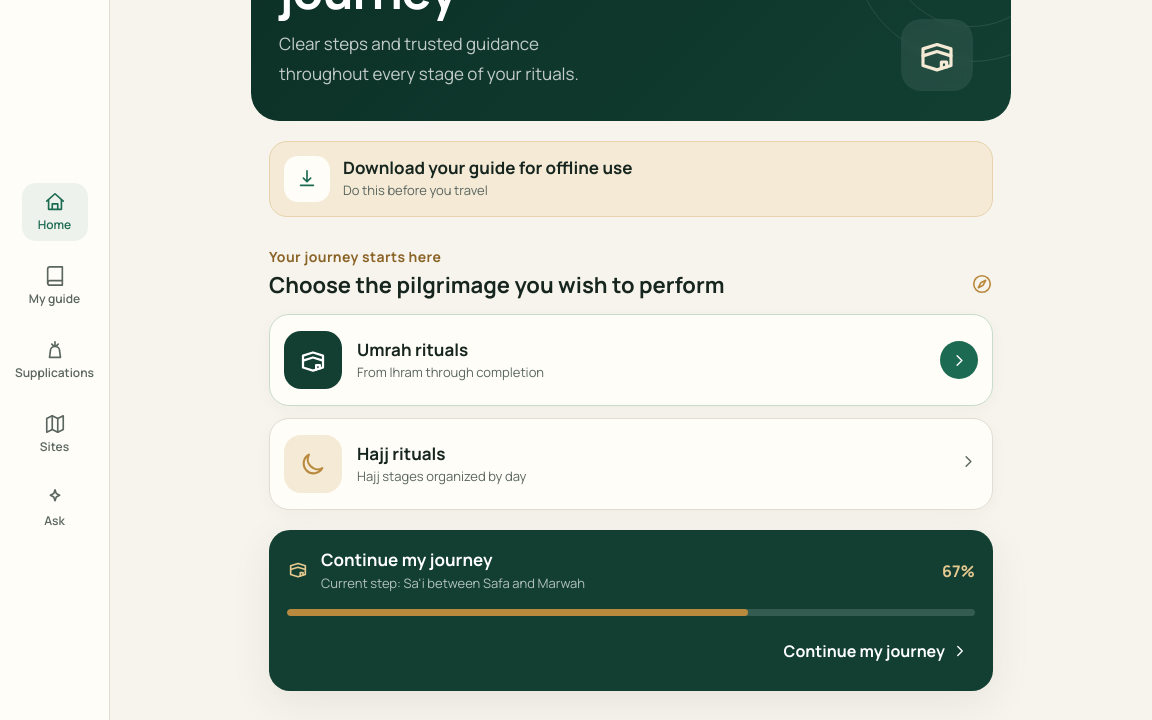
Test: App › shows details, common mistakes, other schools and sources from the content
(page scrolled)
Step 1. Click the button "Umrah rituals From Ihram through completion" → [313, 360], box [269,314,993,406]
(page scrolled)
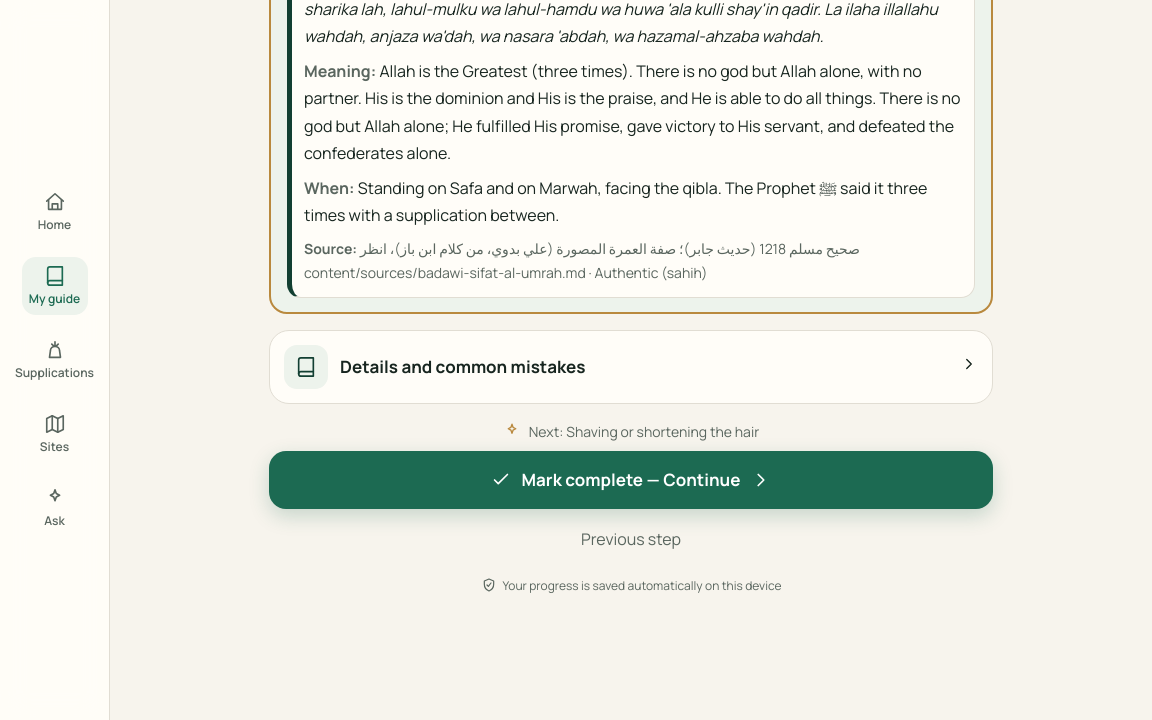
Step 2. Click the button "Details and common mistakes" → [306, 367], box [270,331,992,403]
(page scrolled)
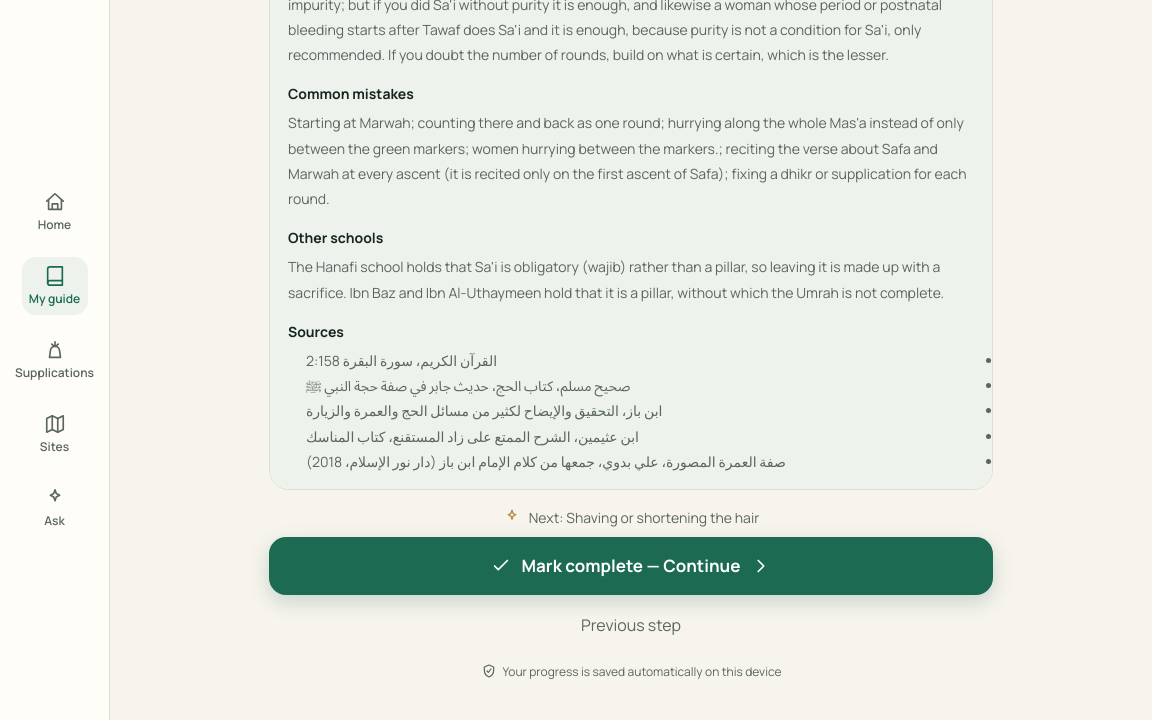
Result: the heading "Common mistakes" is shown at [288,84,414,103]
Result: the text "Hanafi school" is shown at [288,257,944,302]
Result: the list item "القرآن الكريم، سورة البقرة 2:158" is shown at [306,351,497,370]
